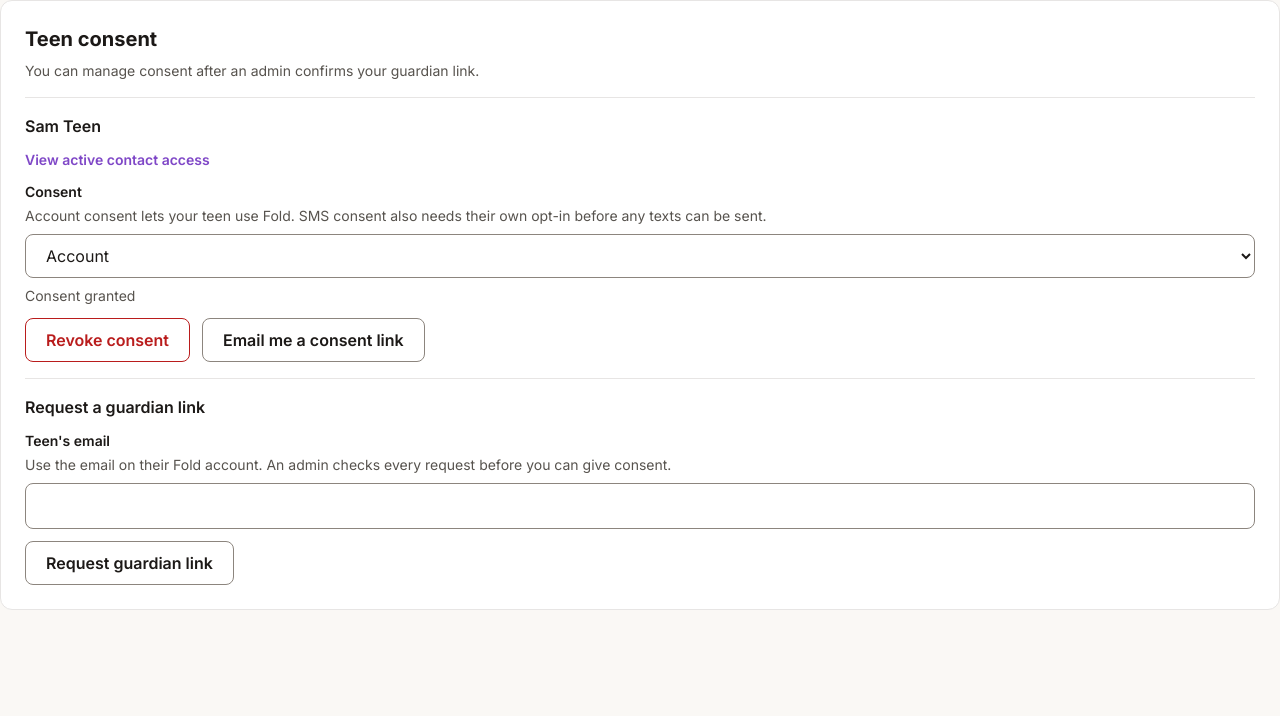
successful account consent revocation closes active grants before the parent reloads; reopening fetches current access
This screenshot has width=1280, height=716.
Click the button "View active contact access" at (117, 160), box left=25, top=138, right=210, bottom=182
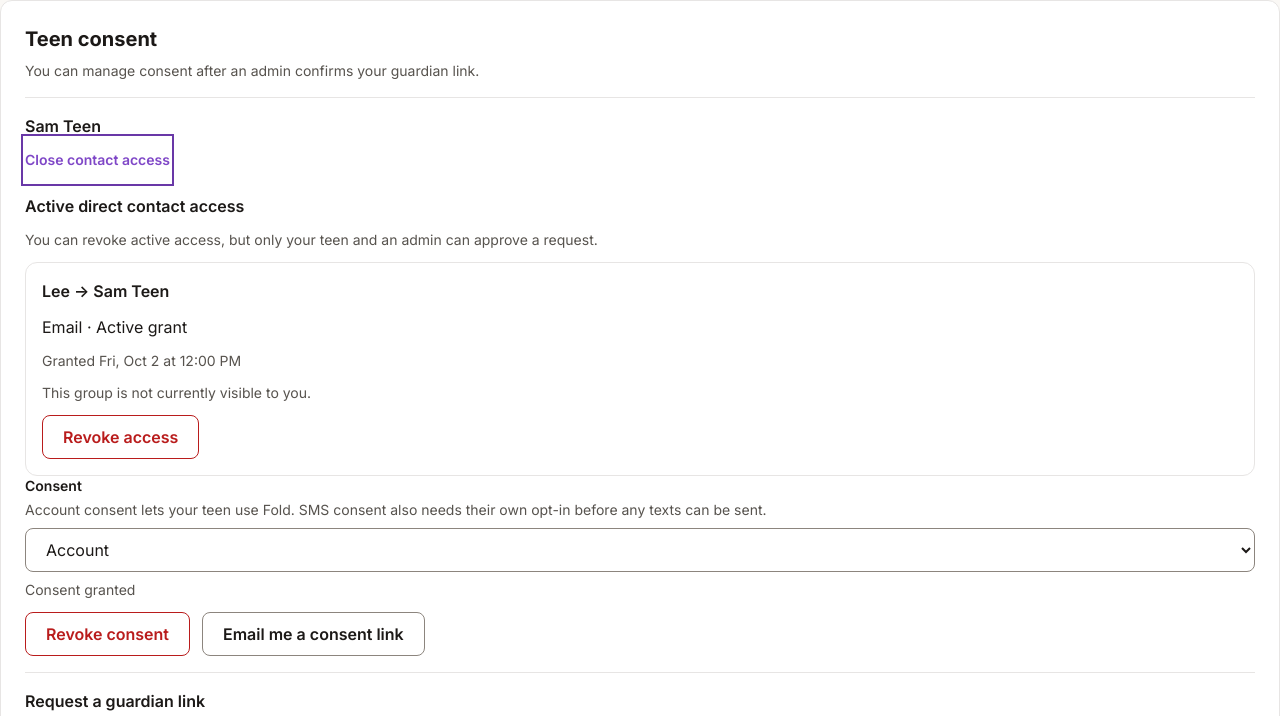
Check: the text "Email · Active grant" is shown, box left=42, top=317, right=187, bottom=337
Check: the button "Revoke access" is shown, box left=42, top=415, right=199, bottom=459
Click the button "Revoke consent" at (108, 634), box left=25, top=612, right=190, bottom=656
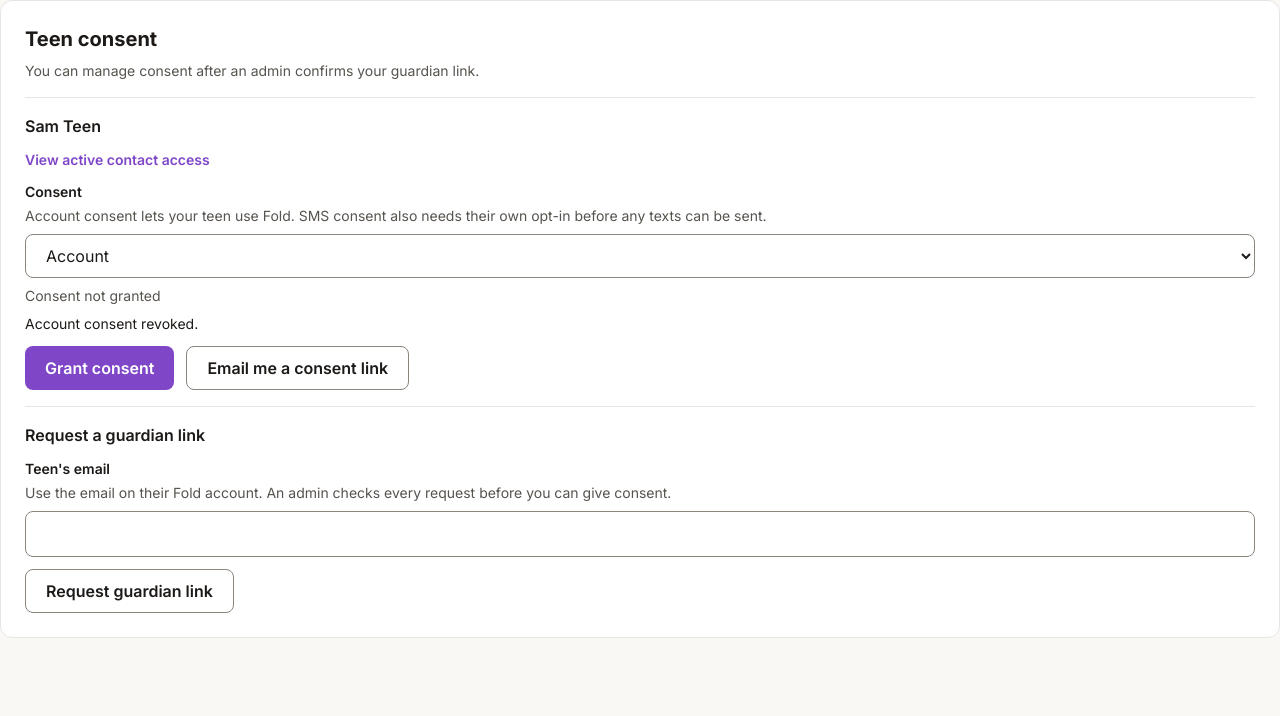
Check: the button "Revoke access" is gone
Check: the button "View active contact access" is collapsed
Check: the text "Account consent revoked." is shown, box left=25, top=315, right=198, bottom=332
Click the button "View active contact access" at (117, 160), box left=25, top=138, right=210, bottom=182
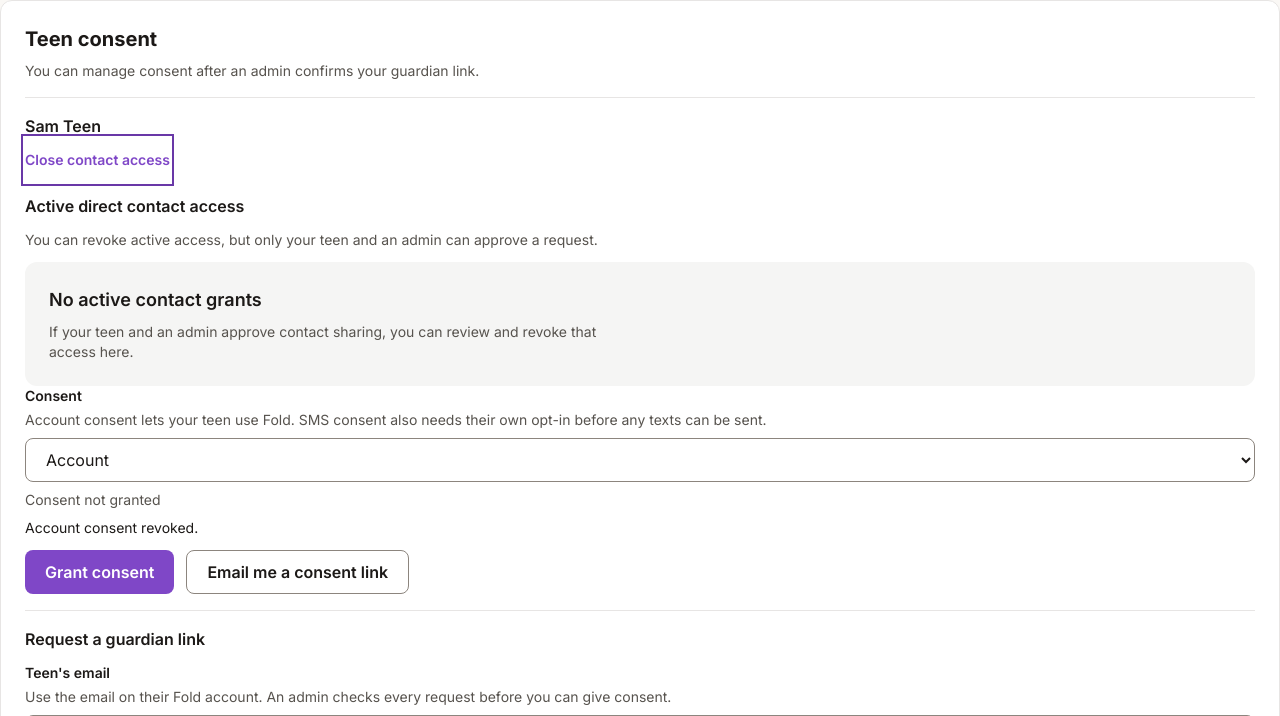
Check: the text "Email · Active grant" is not shown
Check: the text "No active contact grants" is shown, box left=49, top=289, right=262, bottom=310
